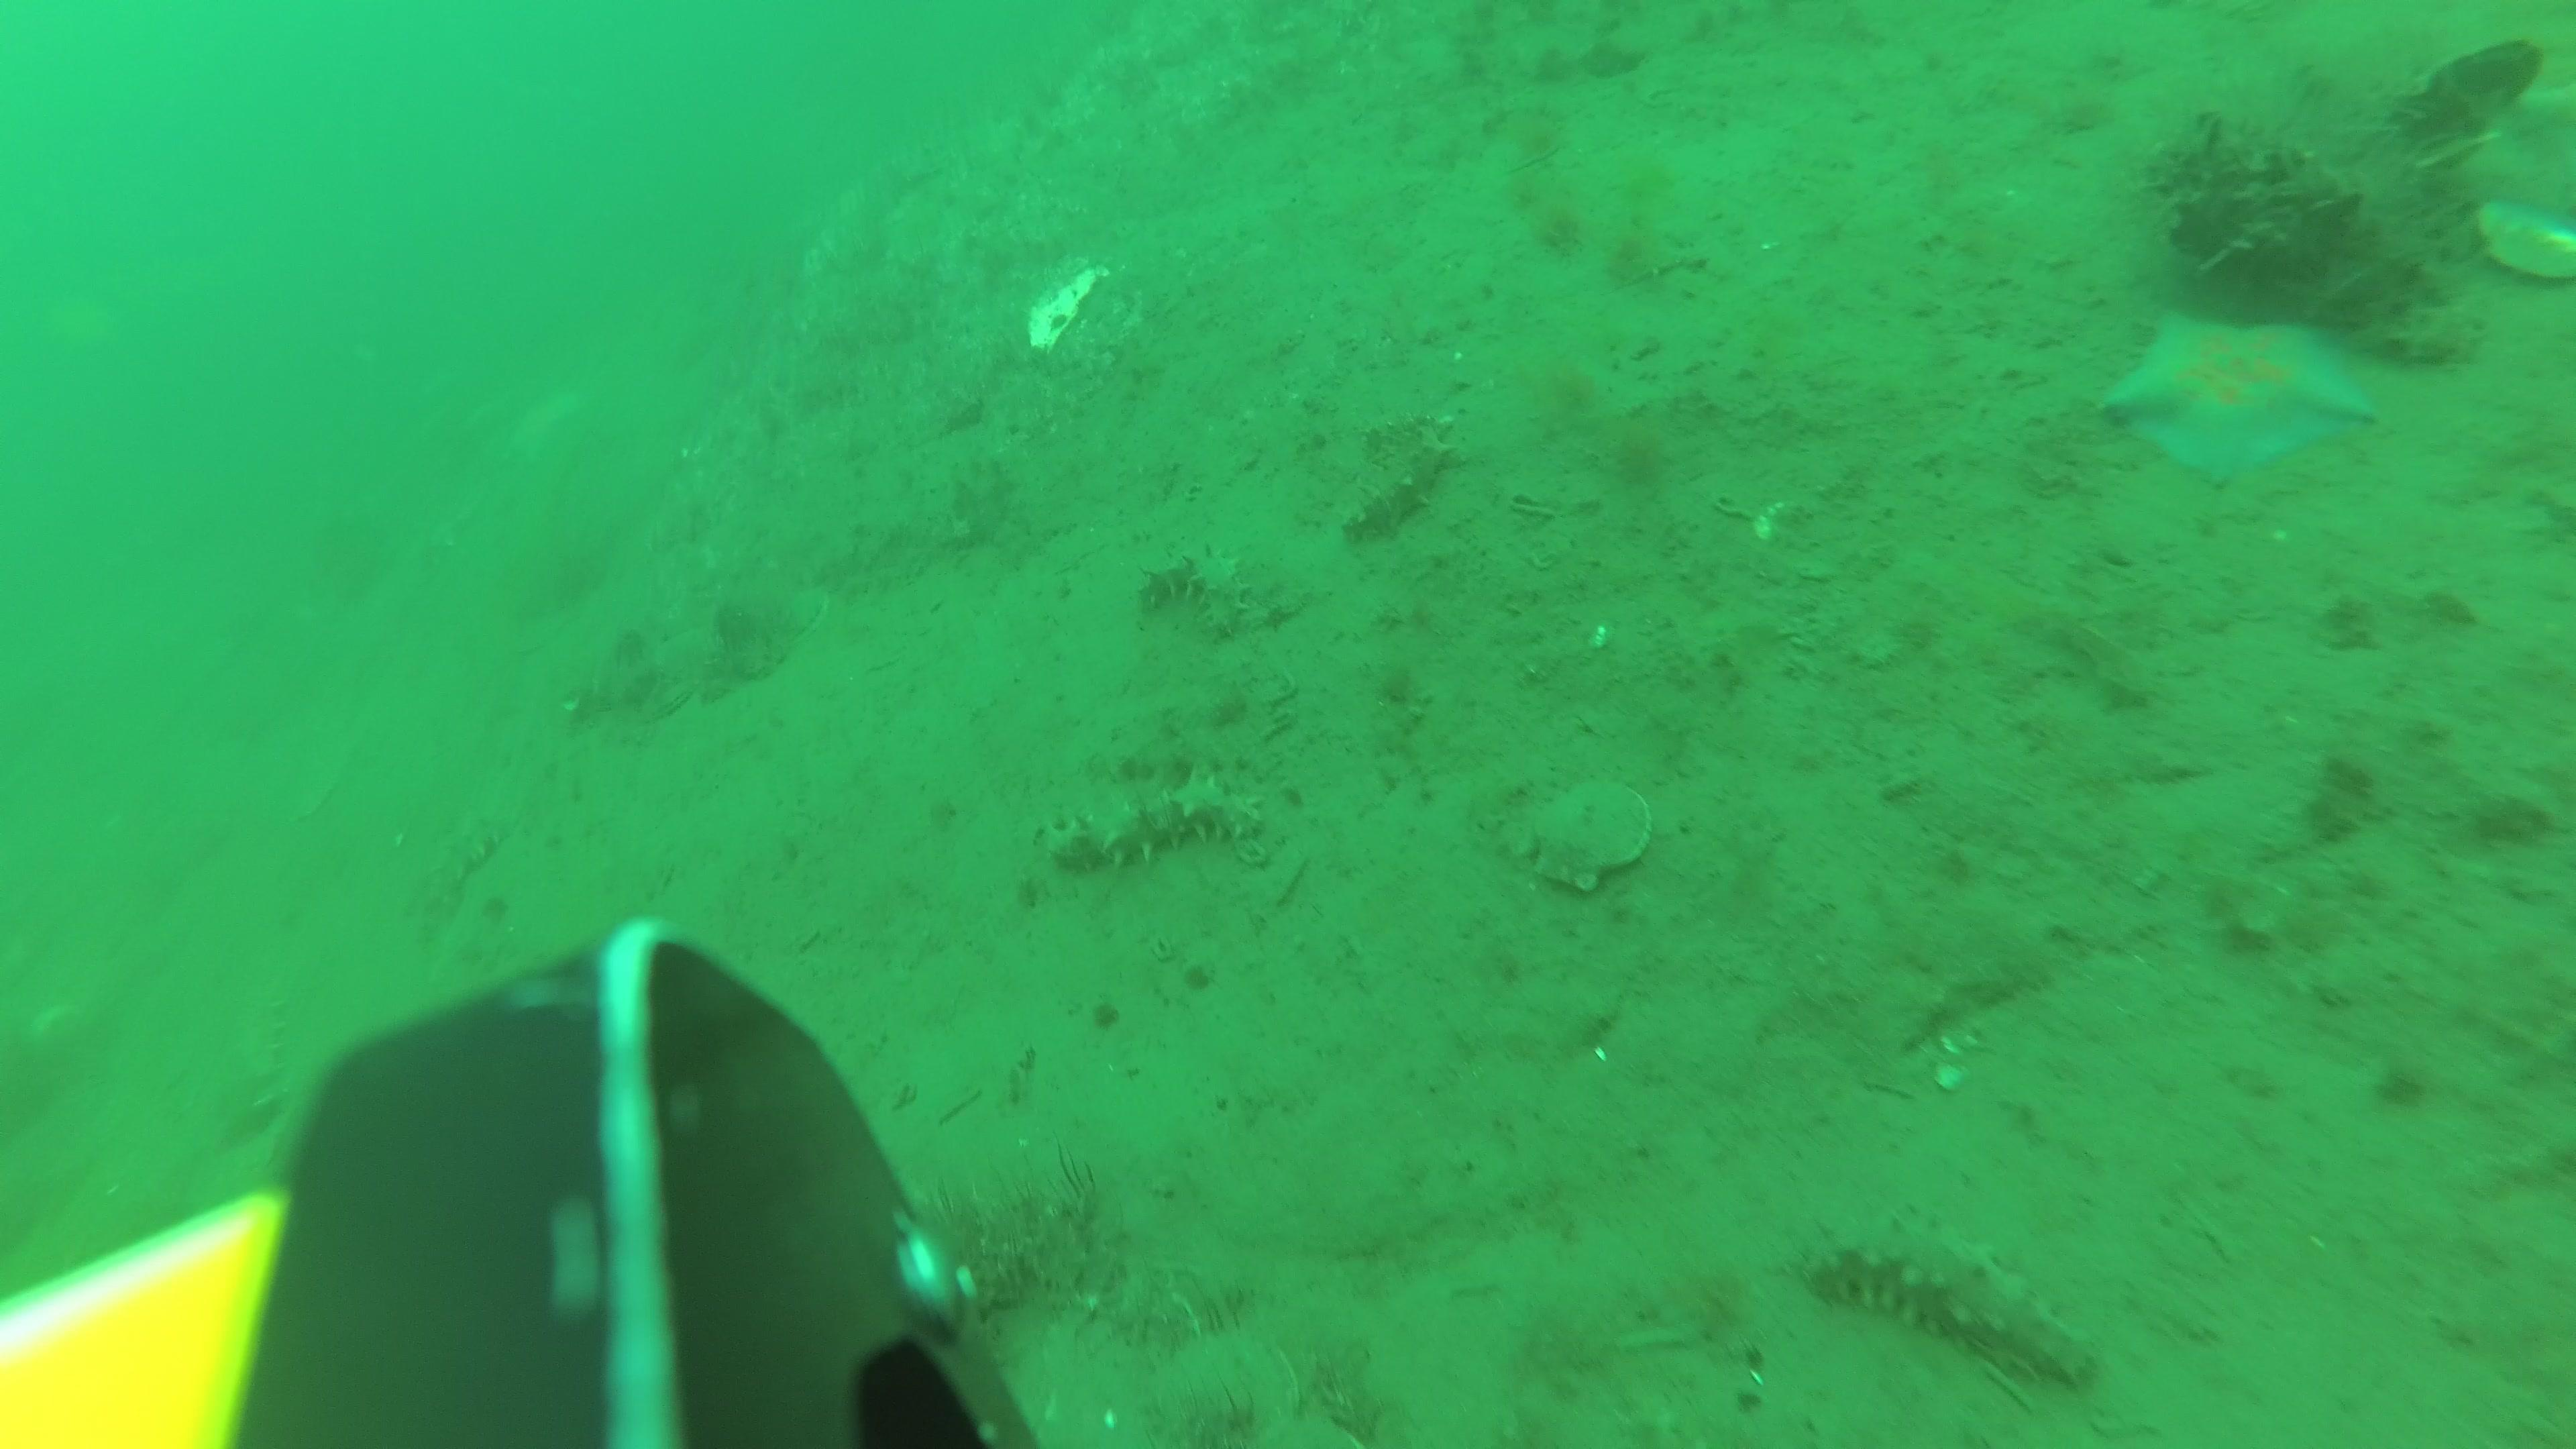holothurian: (1810, 1201, 2088, 1380), (1040, 770, 1261, 876), (1345, 414, 1460, 545), (416, 805, 515, 936), (1145, 550, 1249, 639), (230, 980, 292, 1129)
scallop: (1154, 1325, 1297, 1444), (2390, 34, 2542, 134), (1534, 782, 1654, 892), (2482, 191, 2576, 280), (1265, 1414, 1376, 1449)
starfish: (2109, 311, 2373, 492), (2473, 80, 2576, 196)
